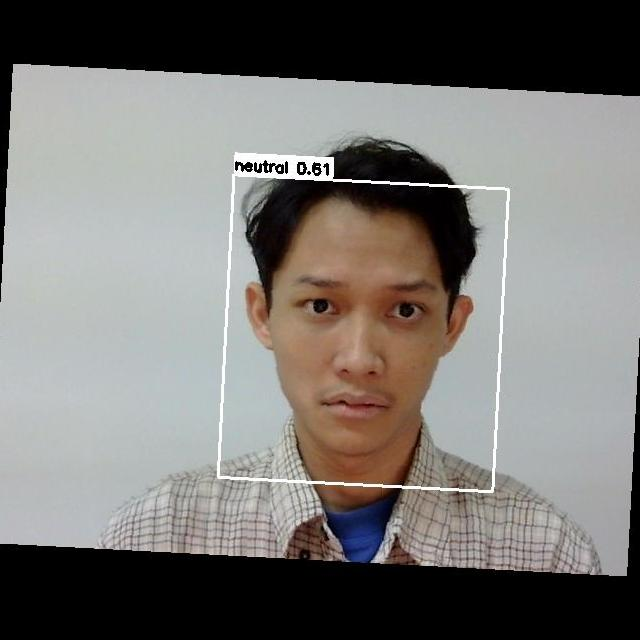Fear: (258, 251, 449, 432)
